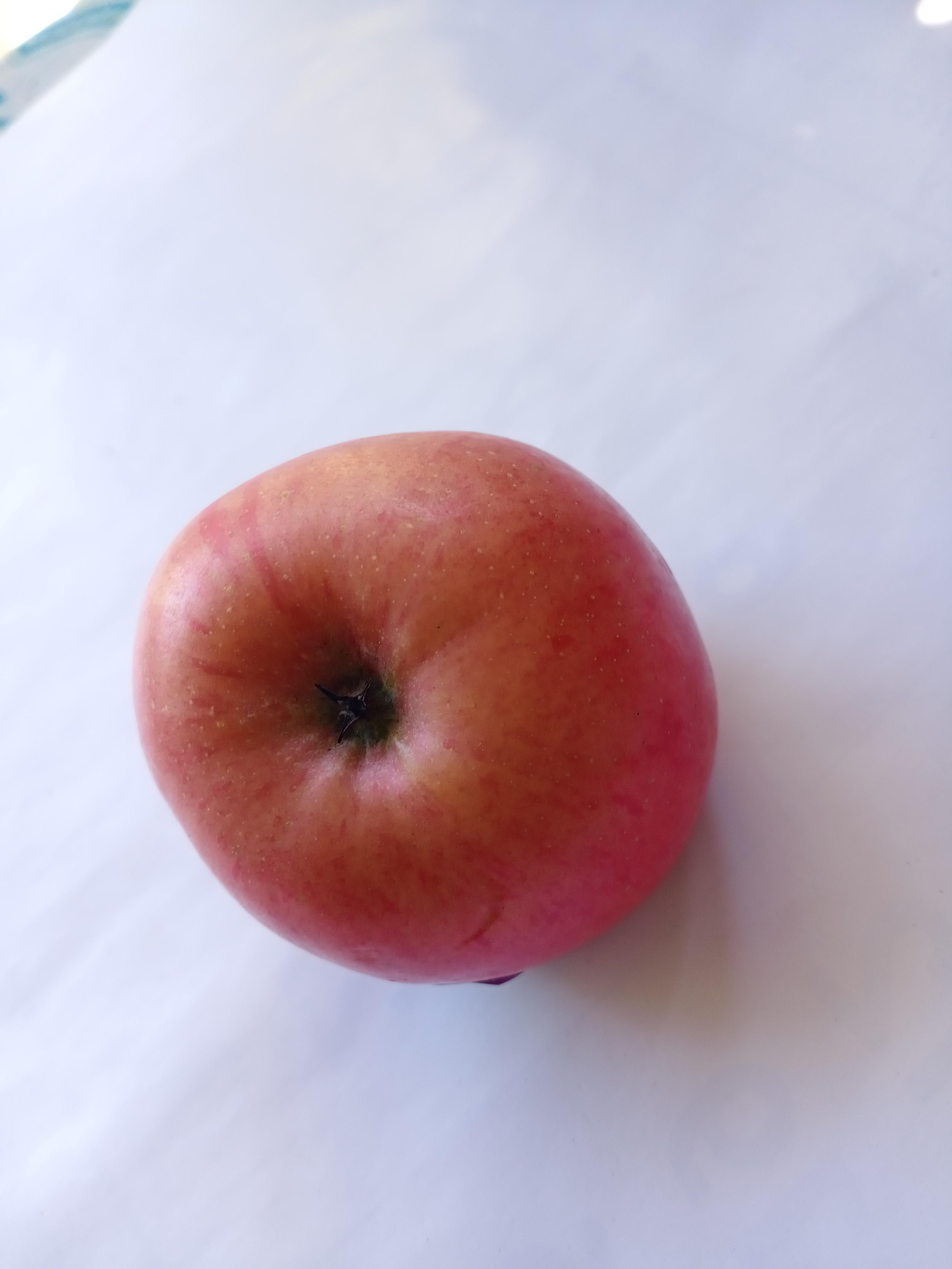Apple Ripe: (118, 413, 727, 1016)
